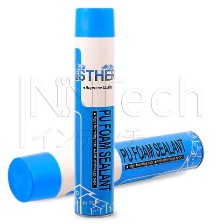aerosol_cans: (5, 127, 207, 204), (65, 4, 120, 219)
